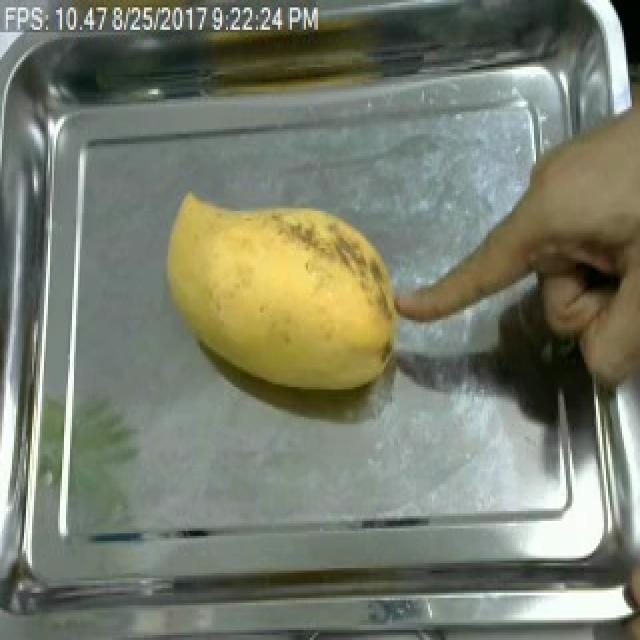fruit: (148, 181, 418, 412), (476, 60, 640, 320)
